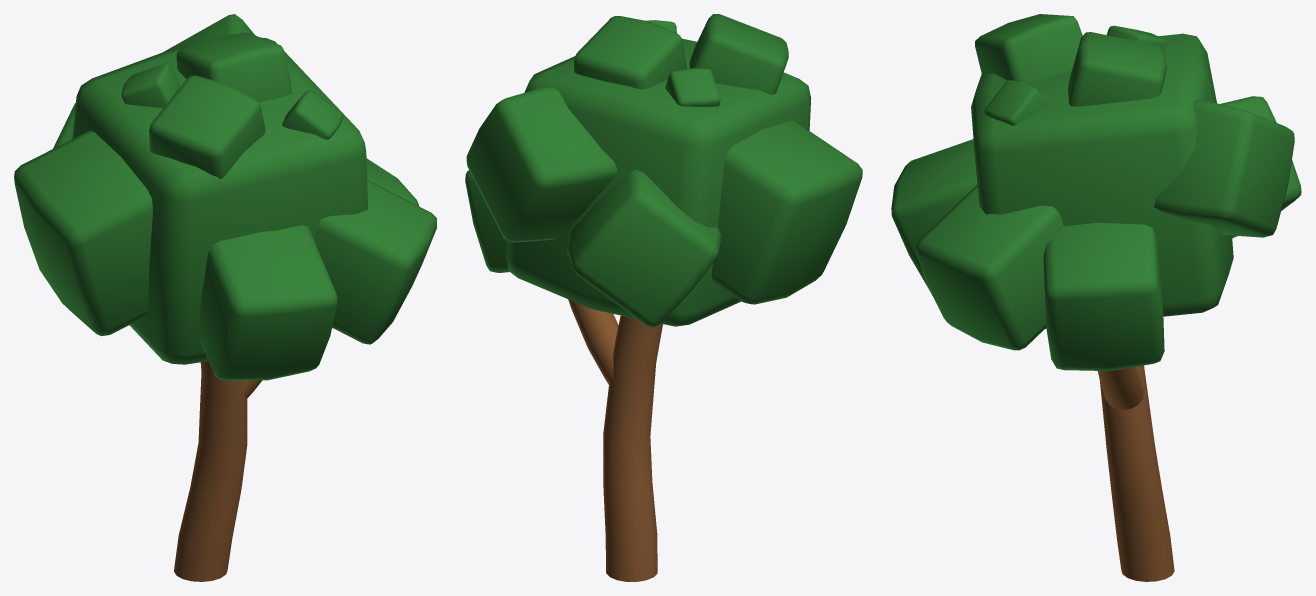
The model's file is tree-06.glb.
3 views of the same model, side by side, from view 1: azimuth 30°, elevation 25°; view 2: azimuth 150°, elevation 25°; view 3: azimuth 270°, elevation 25° (orthographic). The views are drawn at different scales.
Visible parts, largest first — view 1: tree 06; view 2: tree 06; view 3: tree 06.
Boxes of the visible parts, <box> form: tree 06: <box>14,14,436,581</box>; tree 06: <box>465,14,862,581</box>; tree 06: <box>891,14,1301,581</box>.
Size of the model in its own units: 3.83 by 5.46 by 3.79.
1 material, 1 textured.
